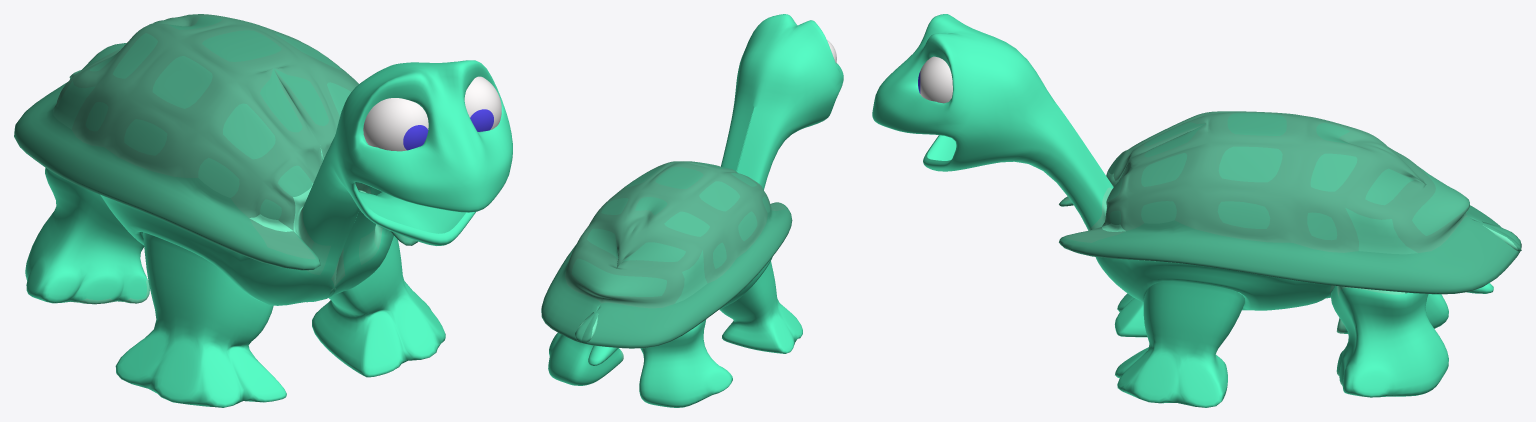
File: turtle.gltf
3 views of the same model, side by side, from view 1: azimuth 30°, elevation 25°; view 2: azimuth 150°, elevation 25°; view 3: azimuth 270°, elevation 25° (orthographic). The views are drawn at different scales.
Parts seen in each view (by area): view 1: Cube; view 2: Cube; view 3: Cube.
Boxes of the visible parts, x1,y1,x2,y2 form: Cube: (14, 14, 512, 407); Cube: (541, 14, 843, 407); Cube: (872, 14, 1521, 407).
Bounding box in the file's own units: 4.84 × 6.14 × 10.97.
